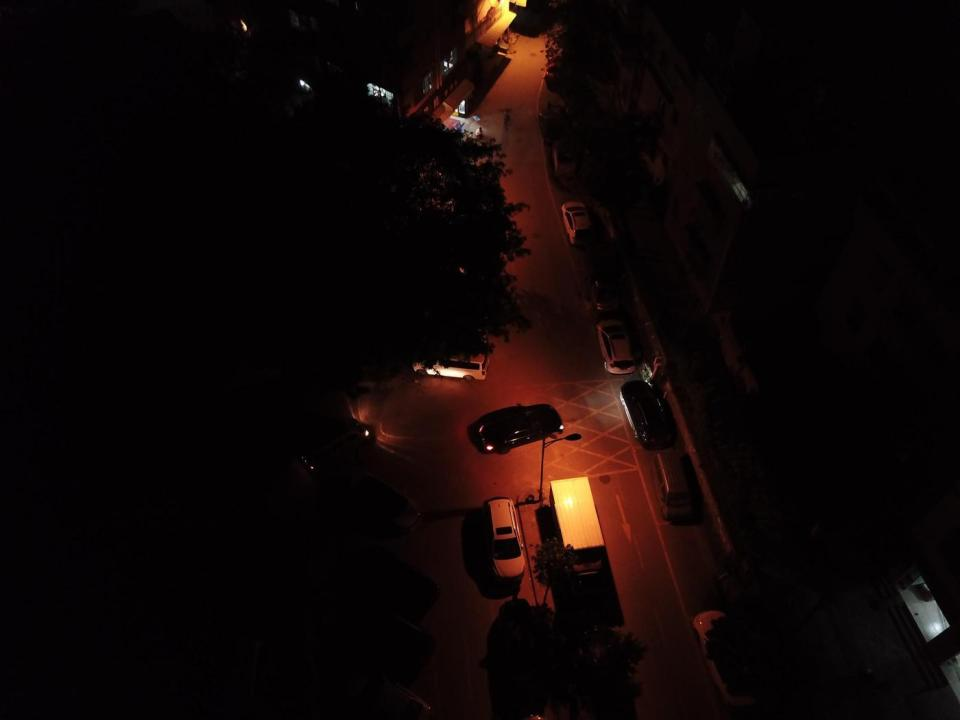car: (692, 609, 758, 707), (339, 469, 422, 543), (473, 403, 563, 455), (298, 415, 372, 476), (620, 380, 675, 450), (482, 496, 527, 581), (410, 342, 491, 382), (594, 318, 638, 374), (582, 257, 622, 312), (560, 200, 595, 246)
truck: (549, 476, 606, 589)
van: (650, 451, 696, 521)
